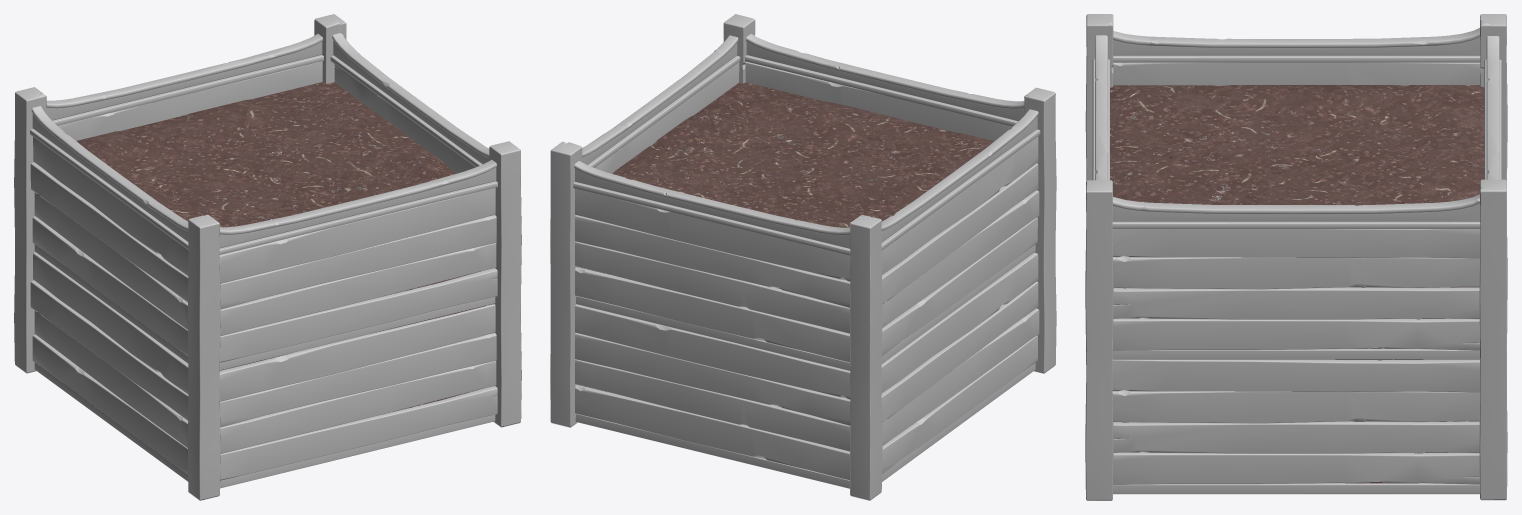
3 views of the same model, side by side, from view 1: azimuth 30°, elevation 25°; view 2: azimuth 150°, elevation 25°; view 3: azimuth 270°, elevation 25° (orthographic). The views are drawn at different scales.
Visible parts, largest first — view 1: SM_Willow_Planter_01v1_LOD0; view 2: SM_Willow_Planter_01v1_LOD0; view 3: SM_Willow_Planter_01v1_LOD0.
Part boxes in pixels (x1,y1,x2,y2): SM_Willow_Planter_01v1_LOD0: (14, 14, 521, 500); SM_Willow_Planter_01v1_LOD0: (550, 14, 1056, 500); SM_Willow_Planter_01v1_LOD0: (1085, 14, 1507, 500).
Size of the model in its own units: 3.23 by 2.63 by 3.24.
